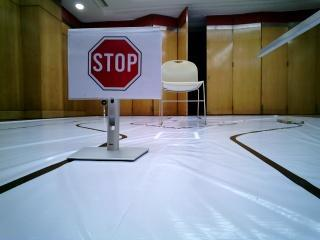stop: (76, 33, 156, 98)
